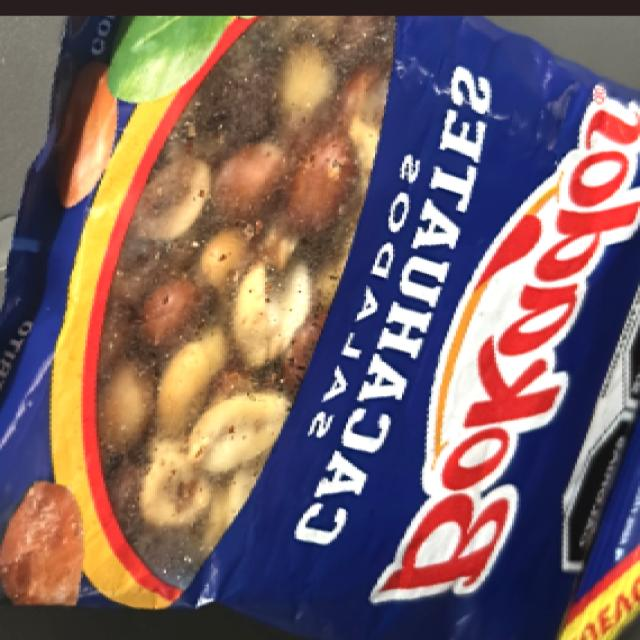bokadosCacahuates: (68, 19, 640, 627)
